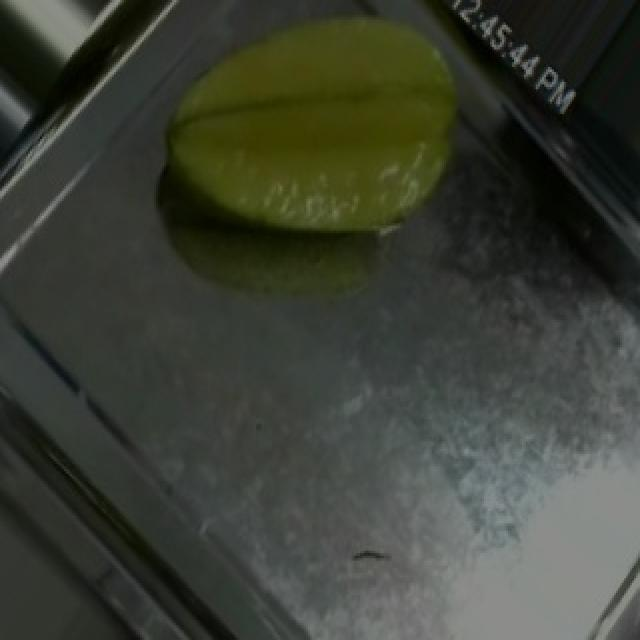fruit: (120, 0, 530, 320)
